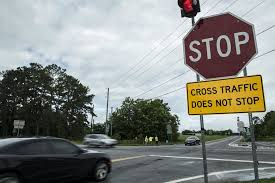stop: (182, 12, 259, 80)
